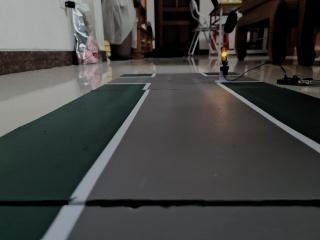yellow: (216, 43, 232, 66)
